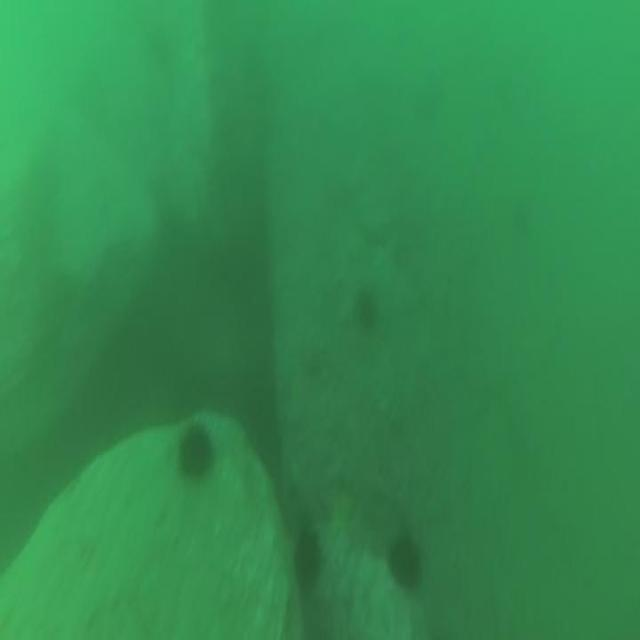echinus: (388, 531, 425, 589), (177, 422, 211, 474), (292, 532, 320, 588), (356, 290, 376, 322)
